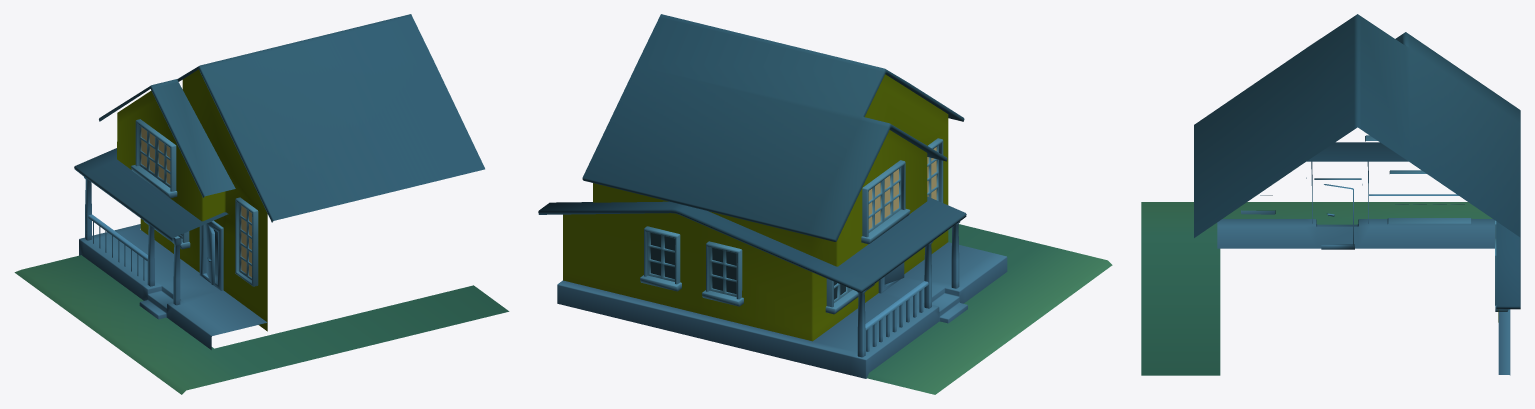
File: House02Night.glb
The picture shows the model from 3 angles, left to right: view 1: azimuth 30°, elevation 25°; view 2: azimuth 150°, elevation 25°; view 3: azimuth 270°, elevation 25°; orthographic projection. The views are drawn at different scales.
Parts seen in each view (by area): view 1: House02Night; view 2: House02Night; view 3: House02Night.
Boxes of the visible parts, x1,y1,x2,y2 form: House02Night: (14, 14, 509, 394); House02Night: (538, 14, 1112, 394); House02Night: (1141, 14, 1520, 375).
Bounding box in the file's own units: 22.15 × 13.13 × 17.9.
Materials: 2 (1 with a texture image).
